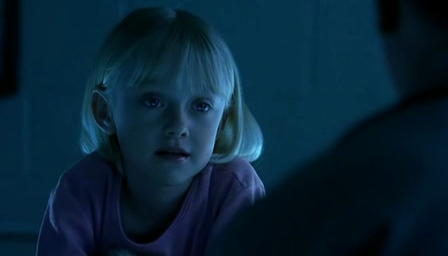cu: (1, 1, 448, 256)
face: (122, 68, 226, 186)
ots: (210, 1, 448, 256)
person: (36, 5, 266, 256)
